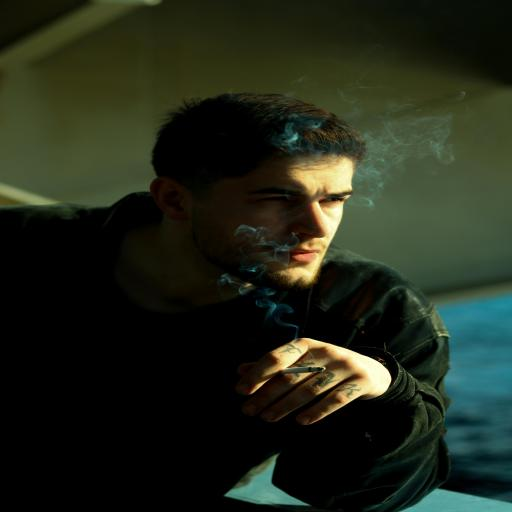terdeteksi pegang rokok: (254, 328, 344, 416)
